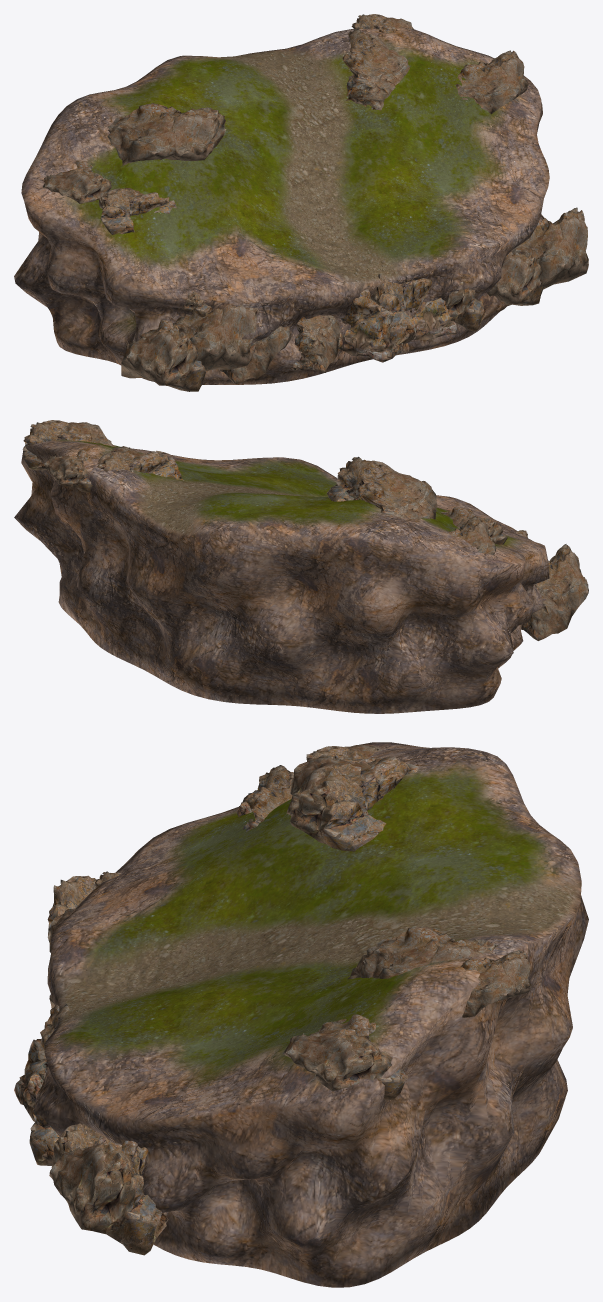
File: terrain.glb
The picture shows the model from 3 angles, top to bottom: view 1: azimuth 30°, elevation 25°; view 2: azimuth 150°, elevation 25°; view 3: azimuth 270°, elevation 25°; orthographic projection. The views are drawn at different scales.
Visible parts, largest first — view 1: terrain_ContinuousBakedSurface, terrain_EmbeddedScanStone; view 2: terrain_ContinuousBakedSurface, terrain_EmbeddedScanStone; view 3: terrain_ContinuousBakedSurface, terrain_EmbeddedScanStone.
Boxes of the visible parts, <box> form: terrain_ContinuousBakedSurface: <box>14,27,549,384</box>; terrain_EmbeddedScanStone: <box>43,14,588,391</box>; terrain_ContinuousBakedSurface: <box>14,439,549,713</box>; terrain_EmbeddedScanStone: <box>22,420,588,640</box>; terrain_ContinuousBakedSurface: <box>34,742,588,1287</box>; terrain_EmbeddedScanStone: <box>14,744,531,1255</box>.
Bounding box in the file's own units: 12.1 × 4.74 × 8.26.
2 materials, 2 textured.
